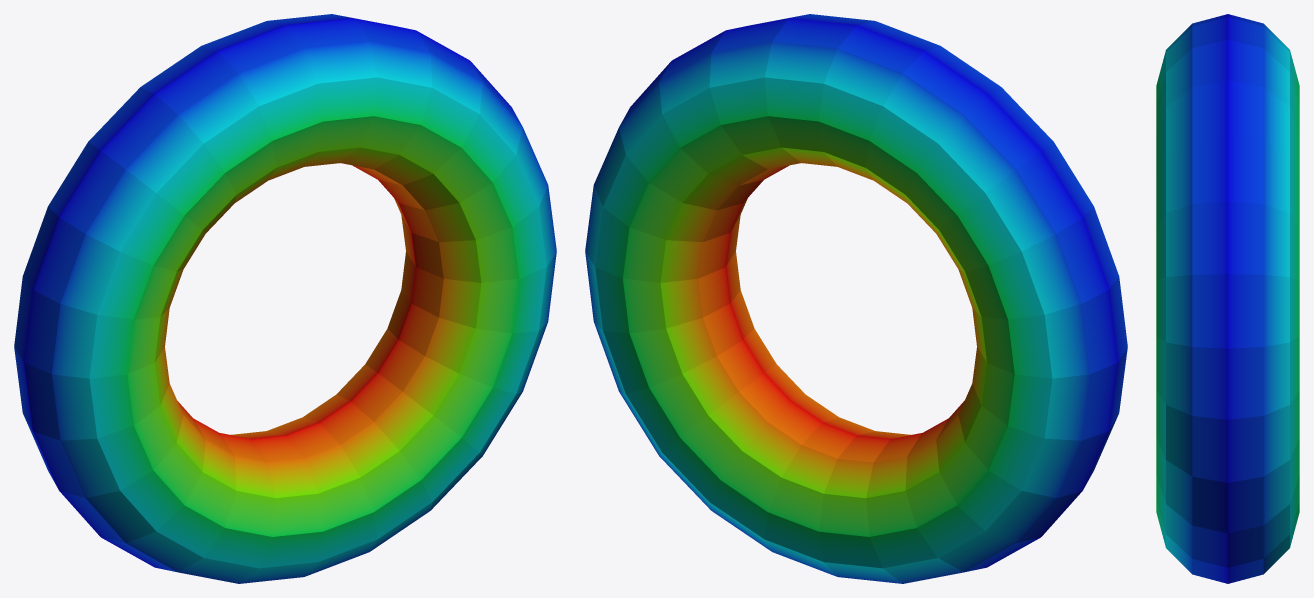
3 views of the same model, side by side, from view 1: azimuth 30°, elevation 25°; view 2: azimuth 150°, elevation 25°; view 3: azimuth 270°, elevation 25° (orthographic). The views are drawn at different scales.
Visible parts, largest first — view 1: node; view 2: node; view 3: node.
Boxes of the visible parts, bbox=[...] form: node: bbox=[14, 14, 556, 583]; node: bbox=[585, 14, 1127, 583]; node: bbox=[1156, 14, 1299, 583].
Bounding box in the file's own units: 8 × 8 × 2.
